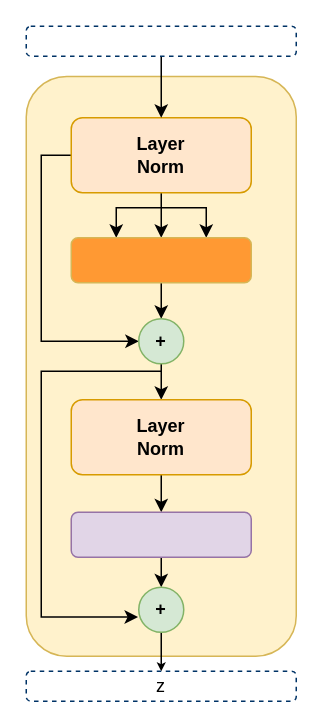
The diagram is 323 pixels wide and 728 high, and some of its shapes have lost their labels. The shapes that lost their labels are listed below. From the top down, each one's centre as x and y in pixels, then its label:
At pixel 160 40: "x1,x2...".
At pixel 160 259: "MSA".
At pixel 160 534: "MLP".
